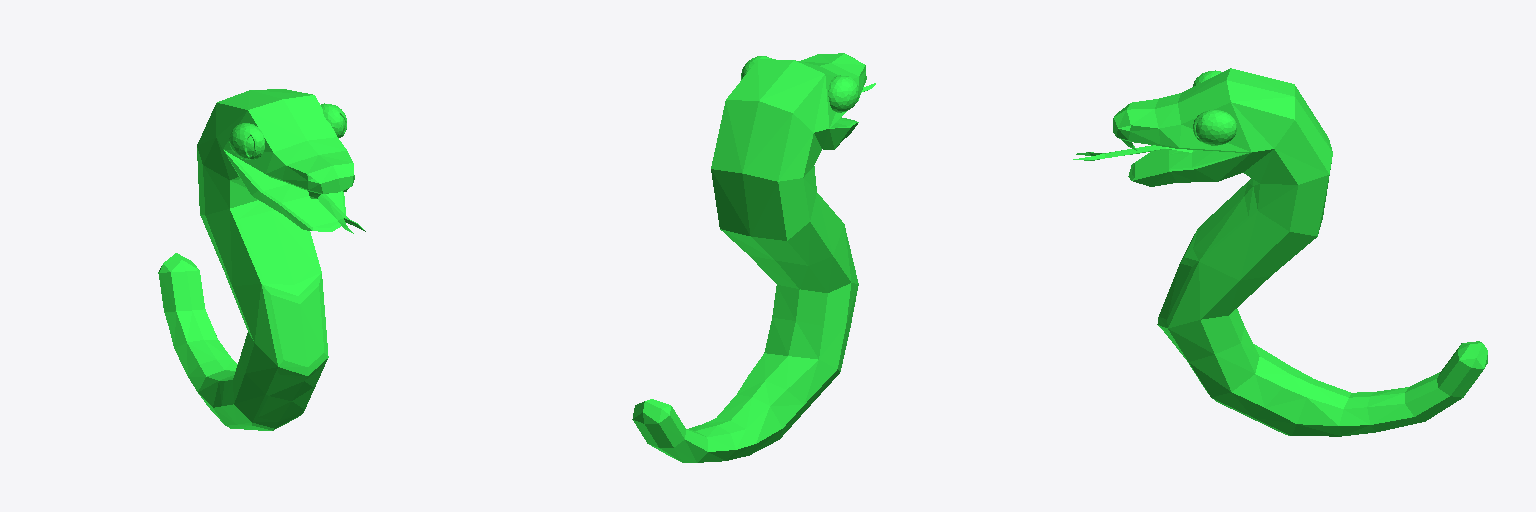
The picture shows the model from 3 angles: view 1: azimuth 30°, elevation 25°; view 2: azimuth 150°, elevation 25°; view 3: azimuth 270°, elevation 25°; orthographic projection.
Parts seen in each view (by area): view 1: Snake_Cylinder; view 2: Snake_Cylinder; view 3: Snake_Cylinder.
Part boxes in pixels (x1,y1,x2,y2): Snake_Cylinder: (158,89,365,430); Snake_Cylinder: (632,53,875,462); Snake_Cylinder: (1073,68,1487,436).
Size of the model in its own units: 0.4214 by 1.27 by 1.36.
Materials: 1 (1 with a texture image).